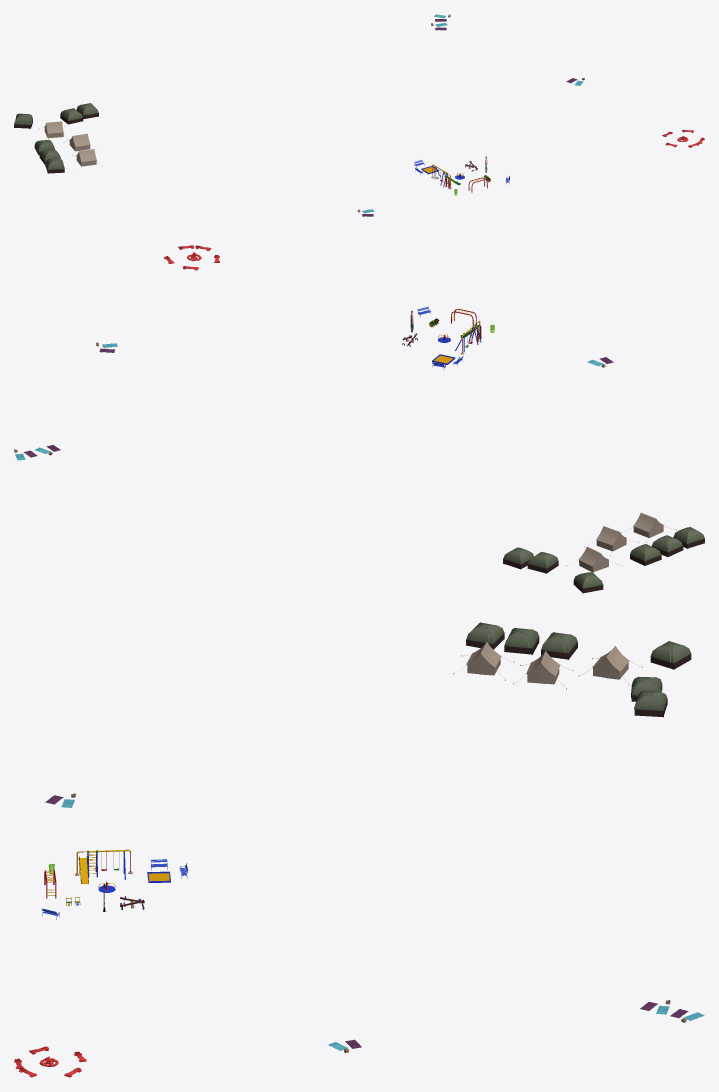
Rendered from rzeczy_NIEcolliderowe.fbx.
The picture shows the model from 3 angles, top to bottom: view 1: azimuth 30°, elevation 25°; view 2: azimuth 150°, elevation 25°; view 3: azimuth 270°, elevation 25°; orthographic projection. The views are drawn at different scales.
Parts seen in each view (by area): view 1: rzeczy_NIEcolliderowe; view 2: rzeczy_NIEcolliderowe; view 3: rzeczy_NIEcolliderowe.
Boxes of the visible parts, x1,y1,x2,y2 form: rzeczy_NIEcolliderowe: [14, 14, 704, 216]; rzeczy_NIEcolliderowe: [14, 245, 704, 593]; rzeczy_NIEcolliderowe: [14, 622, 704, 1077].
Bounding box in the file's own units: 11848 × 370 × 7799.
